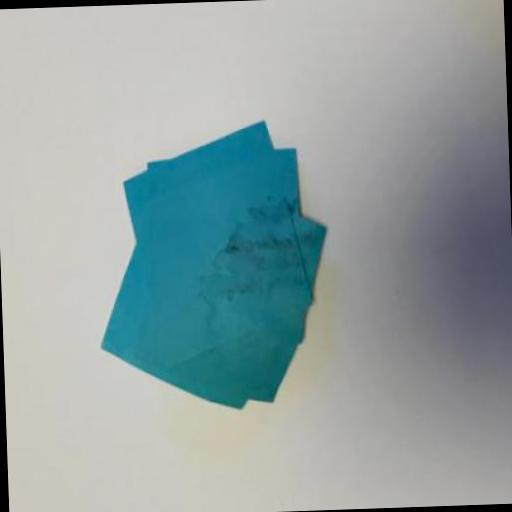paper: (119, 118, 316, 364), (122, 155, 303, 404), (94, 195, 246, 418), (144, 145, 305, 348)
